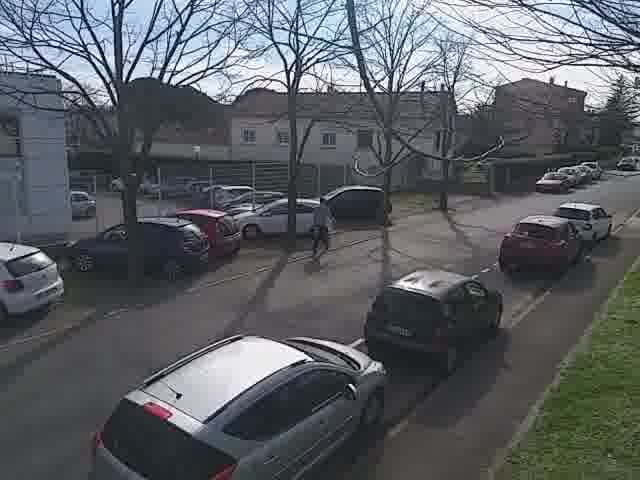persona: (304, 194, 337, 261)
